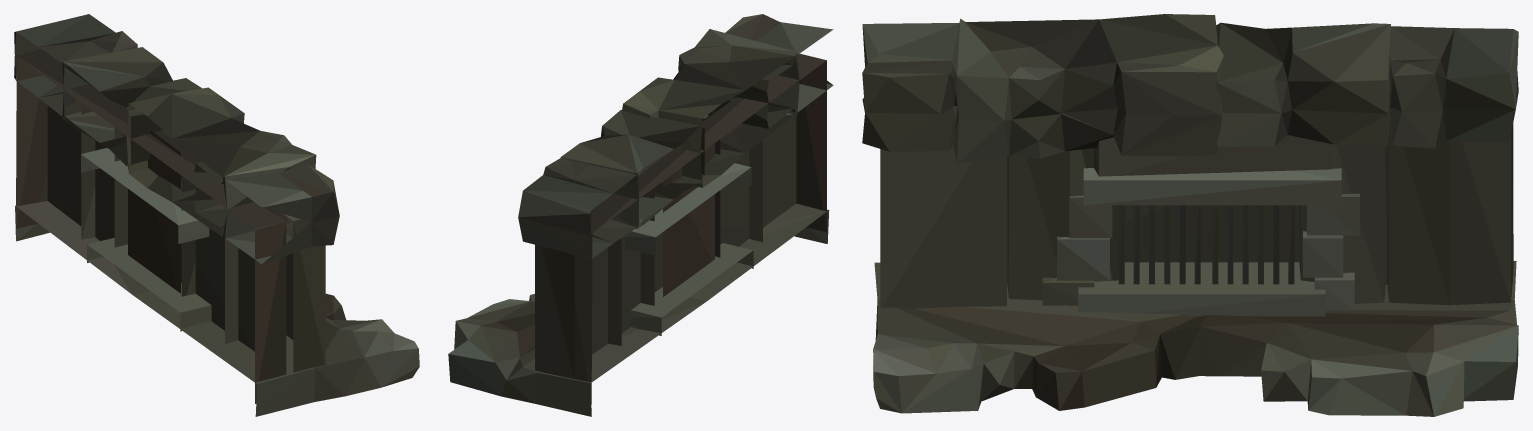
File: low_wall_5m_B.fbx
3 views of the same model, side by side, from view 1: azimuth 30°, elevation 25°; view 2: azimuth 150°, elevation 25°; view 3: azimuth 270°, elevation 25° (orthographic). The views are drawn at different scales.
Parts seen in each view (by area): view 1: low_wall_5m_B; view 2: low_wall_5m_B; view 3: low_wall_5m_B.
Boxes of the visible parts, x1,y1,x2,y2 form: low_wall_5m_B: (14, 14, 419, 416); low_wall_5m_B: (448, 14, 833, 416); low_wall_5m_B: (862, 14, 1518, 416).
Bounding box in the file's own units: 2.07 × 2.56 × 5.18.
